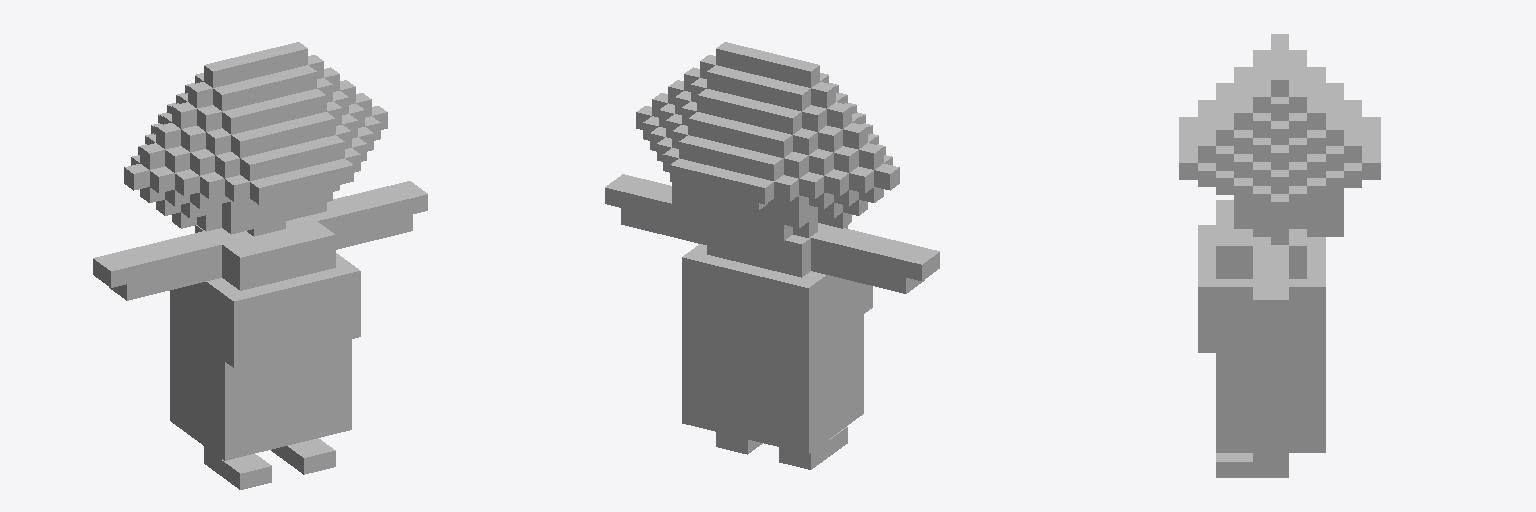
File: daichimom.obj
3 views of the same model, side by side, from view 1: azimuth 30°, elevation 25°; view 2: azimuth 150°, elevation 25°; view 3: azimuth 270°, elevation 25° (orthographic).
Parts seen in each view (by area): view 1: object 1; view 2: object 1; view 3: object 1.
Part boxes in pixels (x1,y1,x2,y2): object 1: (93, 42, 427, 489); object 1: (605, 42, 939, 469); object 1: (1179, 34, 1380, 477).
Size of the model in its own units: 2 by 2.4 by 1.1.